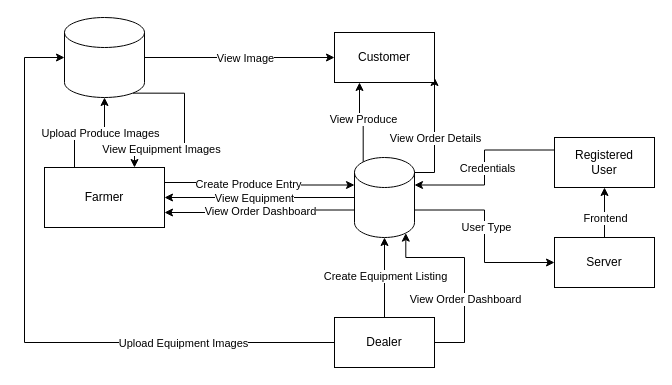
Image size: 672x385. Some labels were removed from this diagram. Here are the shapes that lost their labels. From the top down, the box of each, then its label:
(64, 16, 144, 98): Cloudinary
(354, 156, 414, 238): MongoDB
